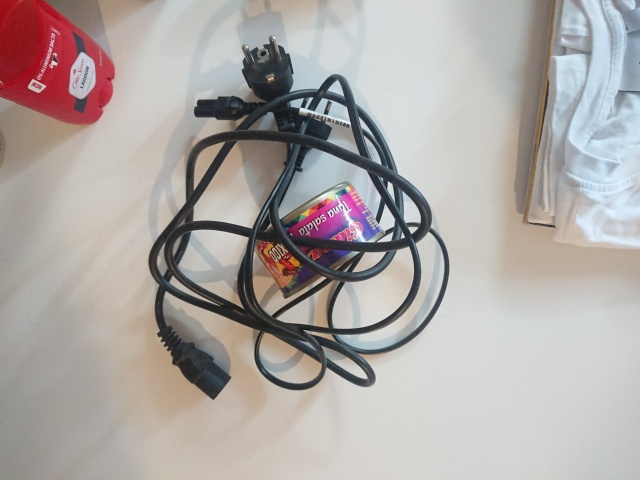Giana Tuna Salad Mexico 185g: (249, 179, 387, 301)
